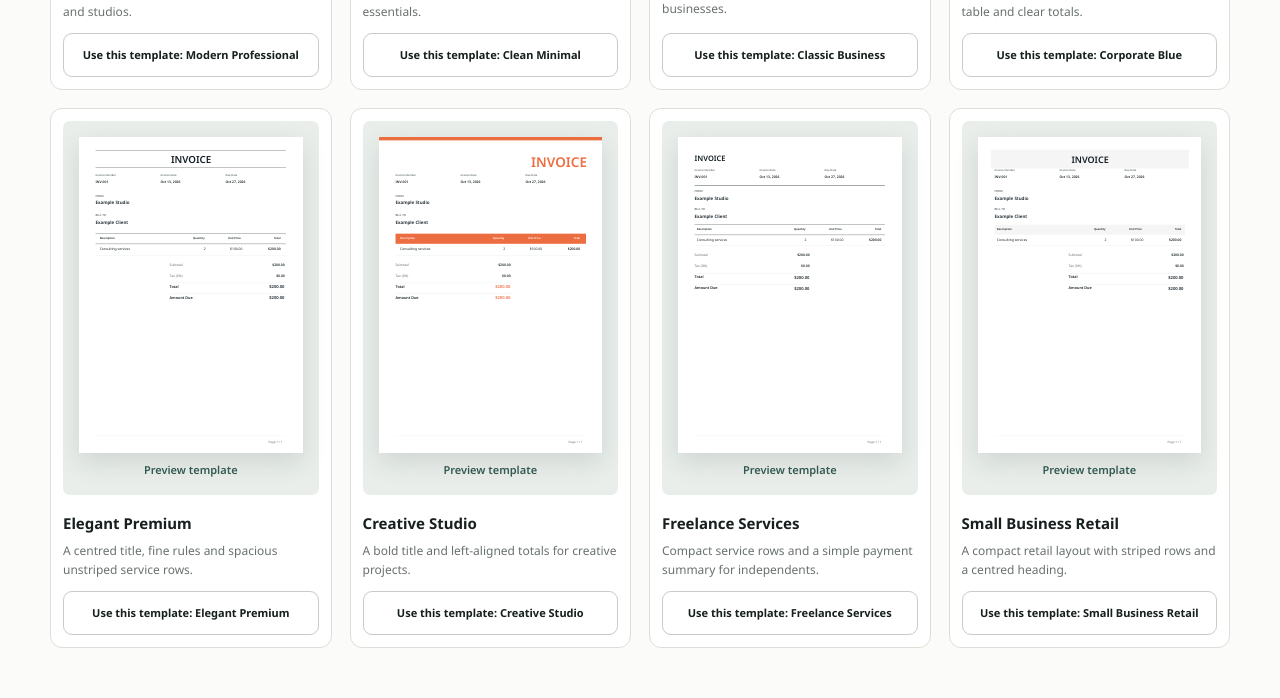
visual invoice workflow › selects elegant before asking for personal details
(page scrolled)
Expected: the button "Business or full name" is not shown
Click the button "Use this template: Elegant Premium": (191, 613) top-left (63, 591), bottom-right (318, 635)
(page scrolled)
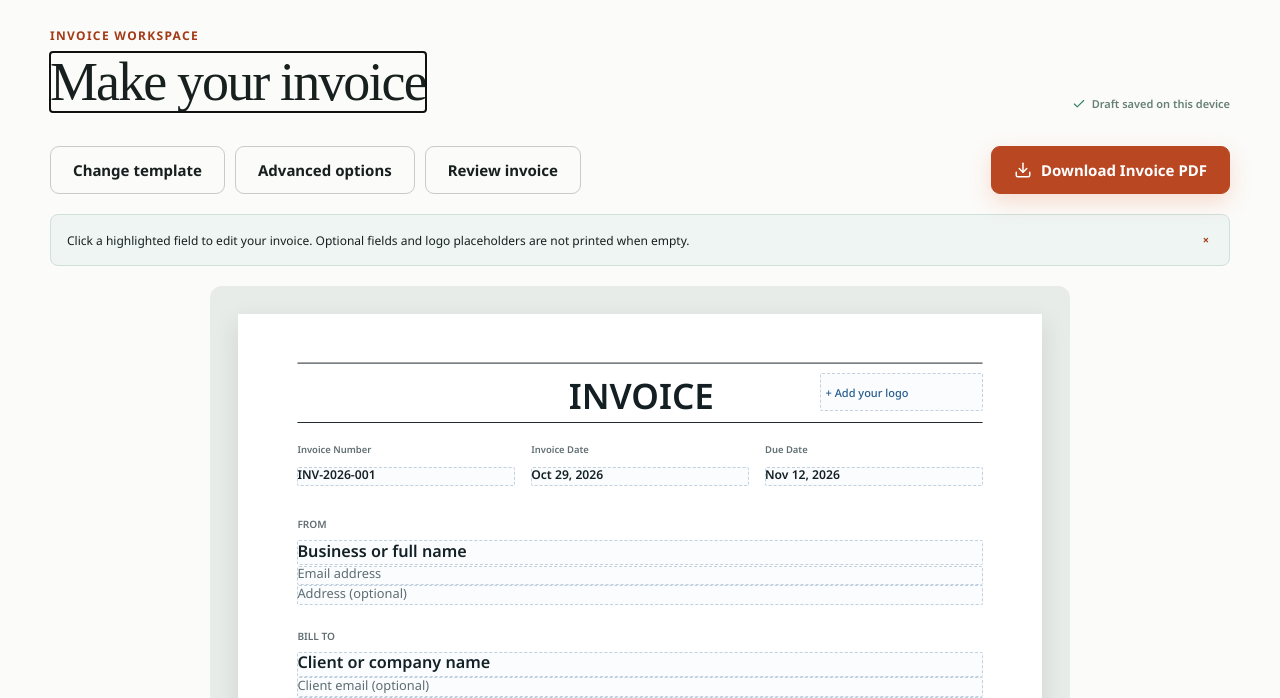
Now the button named "Business or full name" is shown, box top-left (297, 540), bottom-right (982, 566)
